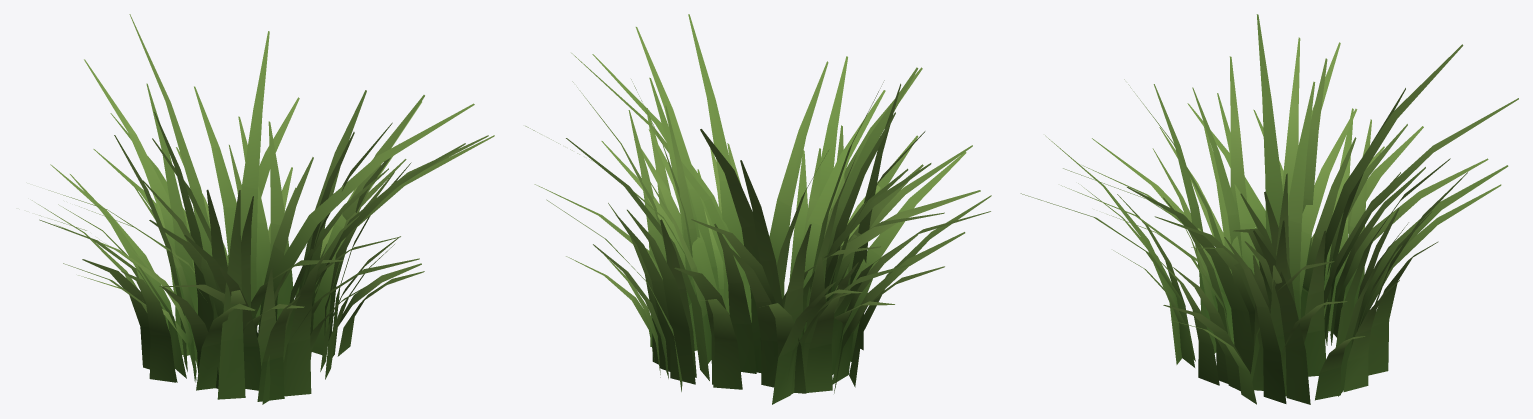
The model's file is PLN_Grass_Tall.fbx.
3 renders of one model, left to right at view 1: azimuth 30°, elevation 25°; view 2: azimuth 150°, elevation 25°; view 3: azimuth 270°, elevation 25°, orthographic. The views are drawn at different scales.
Parts seen in each view (by area): view 1: PLN_Grass_Tall; view 2: PLN_Grass_Tall; view 3: PLN_Grass_Tall.
Boxes of the visible parts, x1,y1,x2,y2 form: PLN_Grass_Tall: [32, 14, 494, 404]; PLN_Grass_Tall: [525, 14, 991, 404]; PLN_Grass_Tall: [1020, 14, 1518, 404].
Size of the model in its own units: 0.8793 by 0.5675 by 0.8573.
